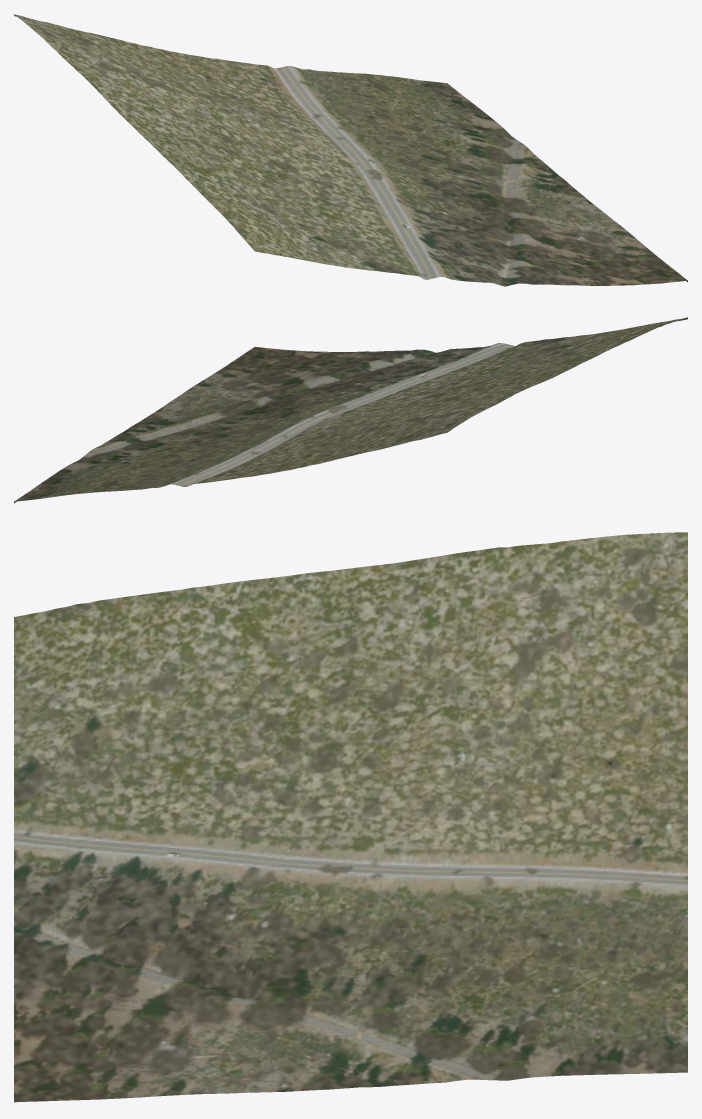
3 views of the same model, one above another, from view 1: azimuth 30°, elevation 25°; view 2: azimuth 150°, elevation 25°; view 3: azimuth 270°, elevation 25° (orthographic). The views are drawn at different scales.
Bounding box in the file's own units: 250 × 109 × 241.
1 material, 1 textured.
